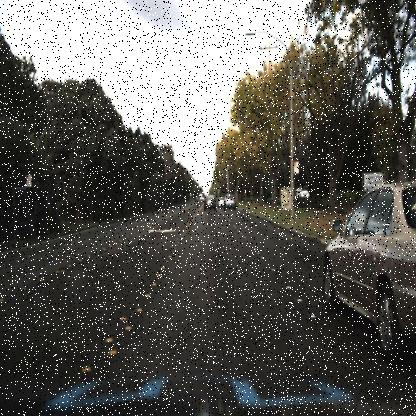car: (320, 170, 414, 362), (320, 179, 416, 363), (198, 190, 220, 214), (222, 187, 240, 214), (215, 192, 225, 209)
